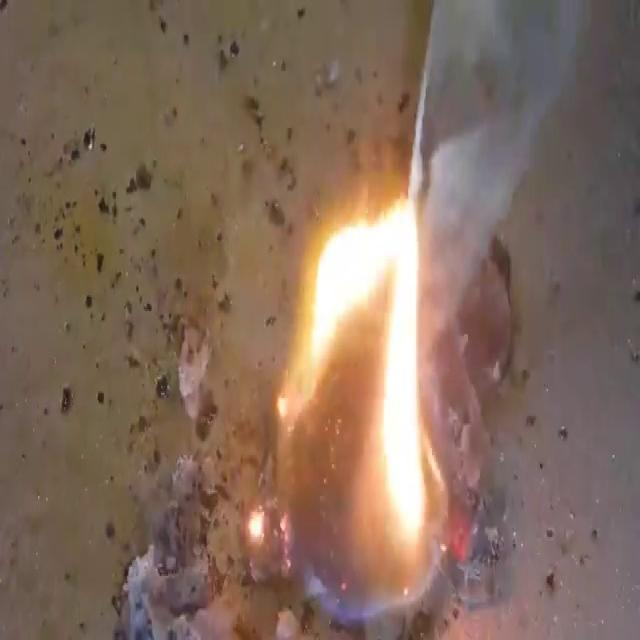Fire: (273, 188, 449, 614)
